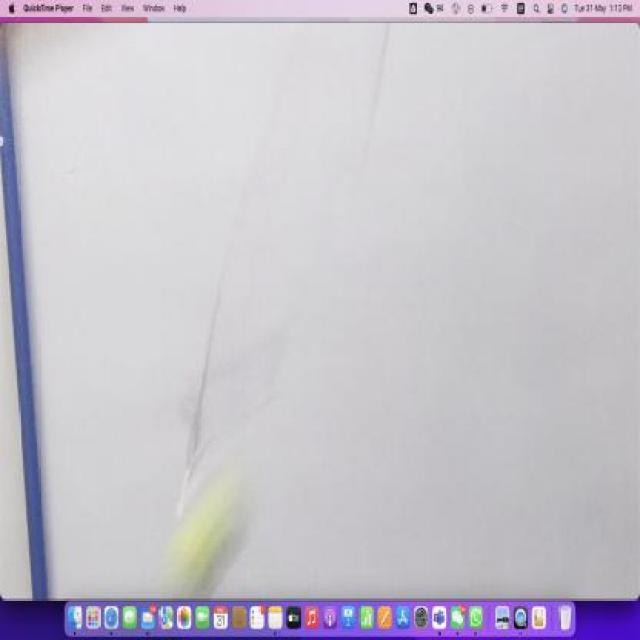baseball: (161, 477, 250, 594)
